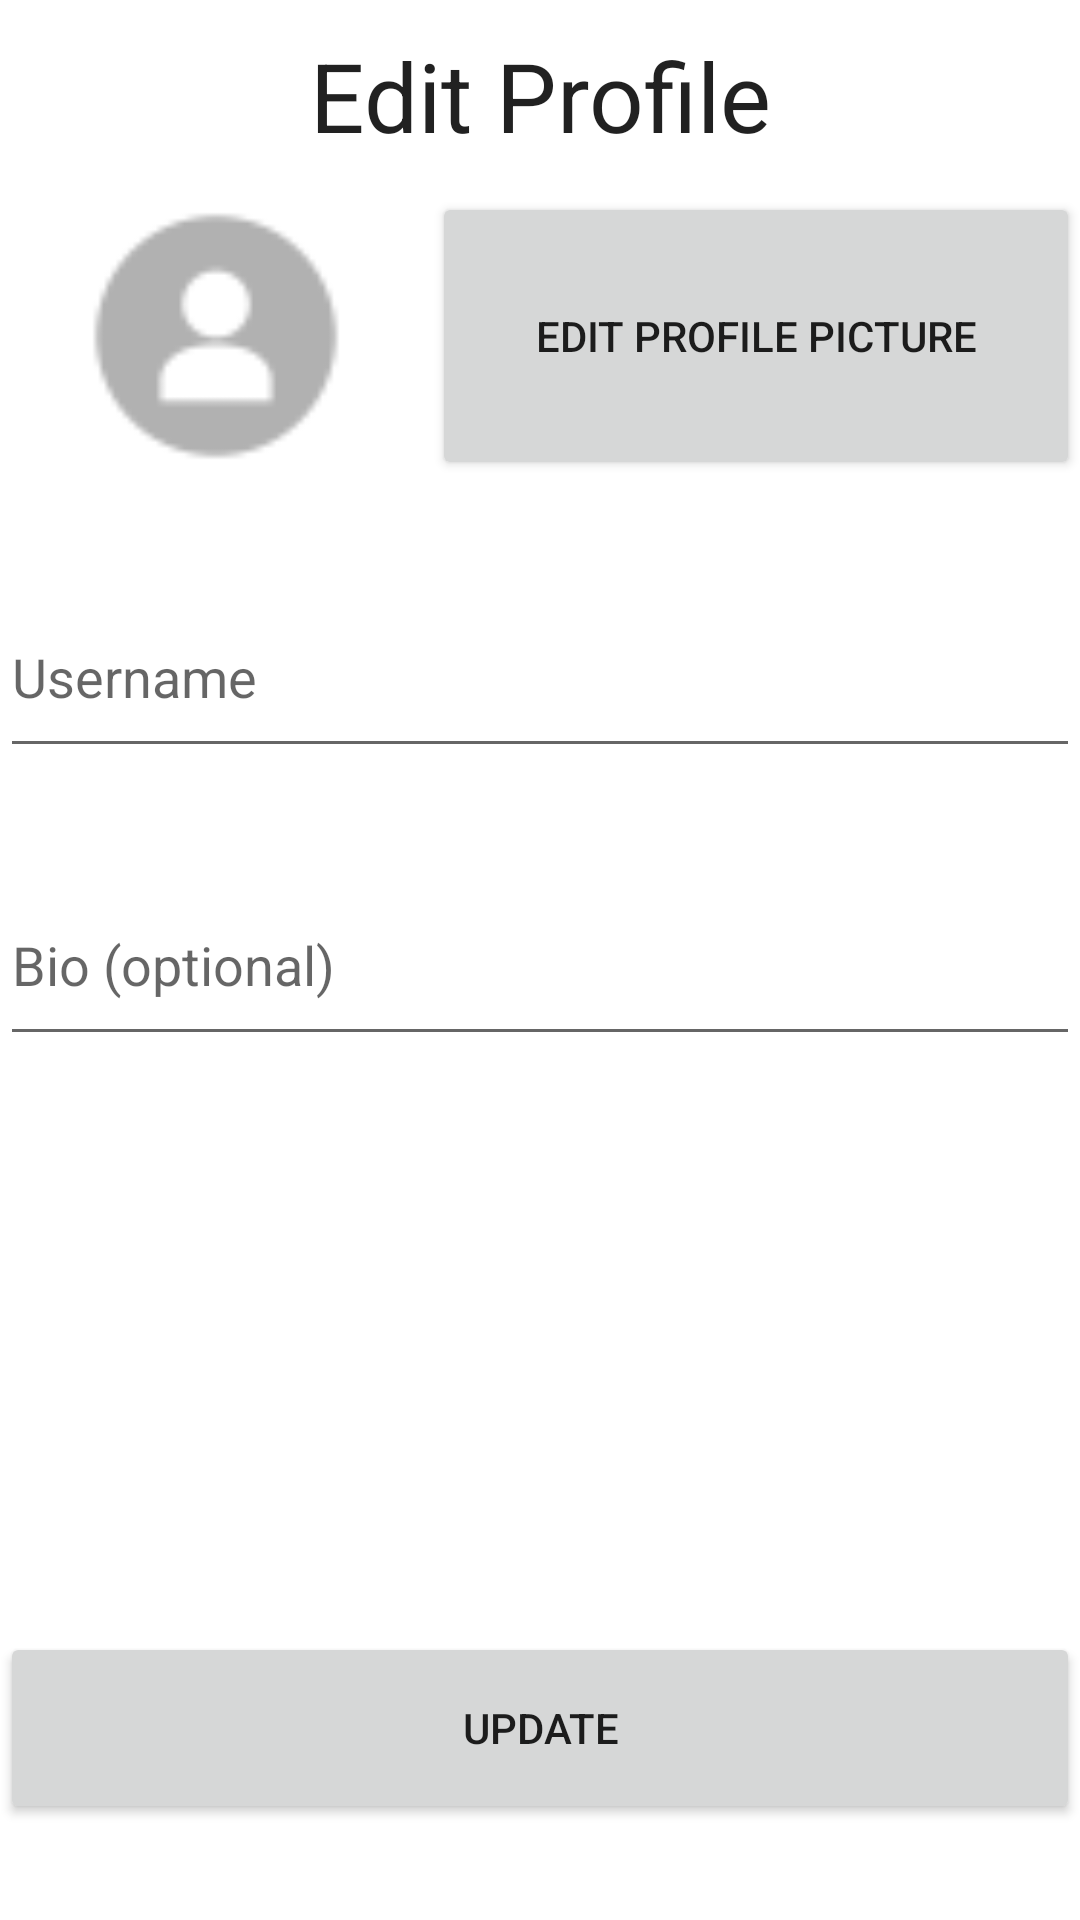

Icon click points for this 1080w x 1920h phone screenshot, format point (x, y):
defaultpic: point (216, 335)
